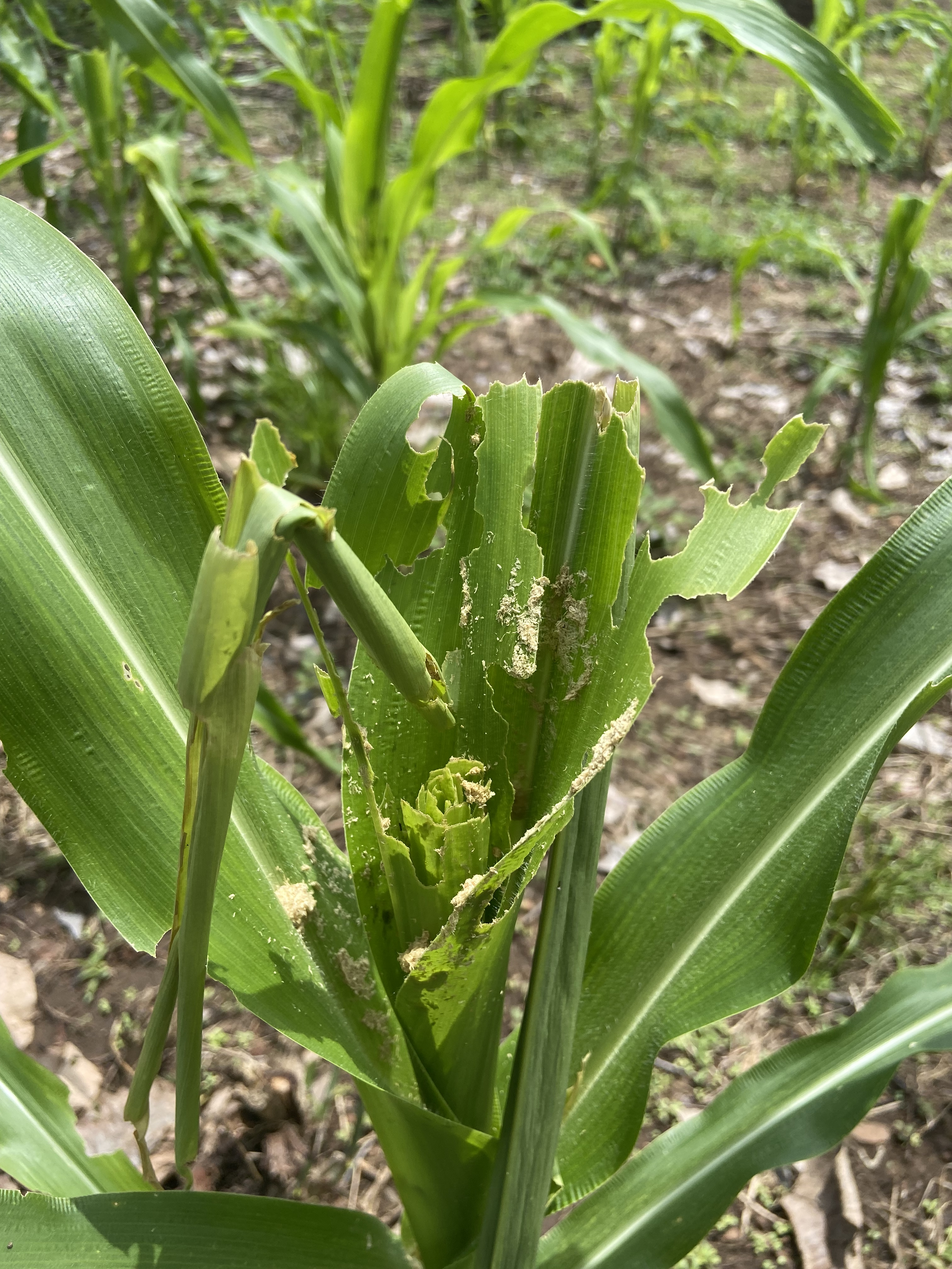early_to_moderate: (414, 527, 663, 721), (235, 812, 439, 1034), (372, 702, 565, 836)
severe: (201, 446, 354, 650), (595, 460, 779, 629), (372, 393, 495, 574), (420, 802, 523, 961)
